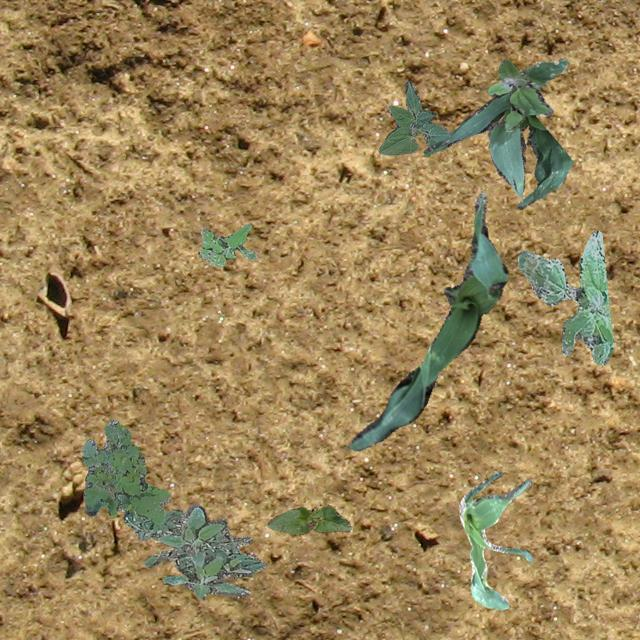crop: (348, 190, 508, 450), (422, 90, 572, 208), (458, 471, 532, 608), (378, 80, 450, 154), (266, 504, 350, 534)
weed: (516, 230, 612, 364), (118, 508, 264, 576), (80, 418, 170, 524), (154, 502, 250, 598), (488, 58, 566, 130), (198, 222, 256, 266)
